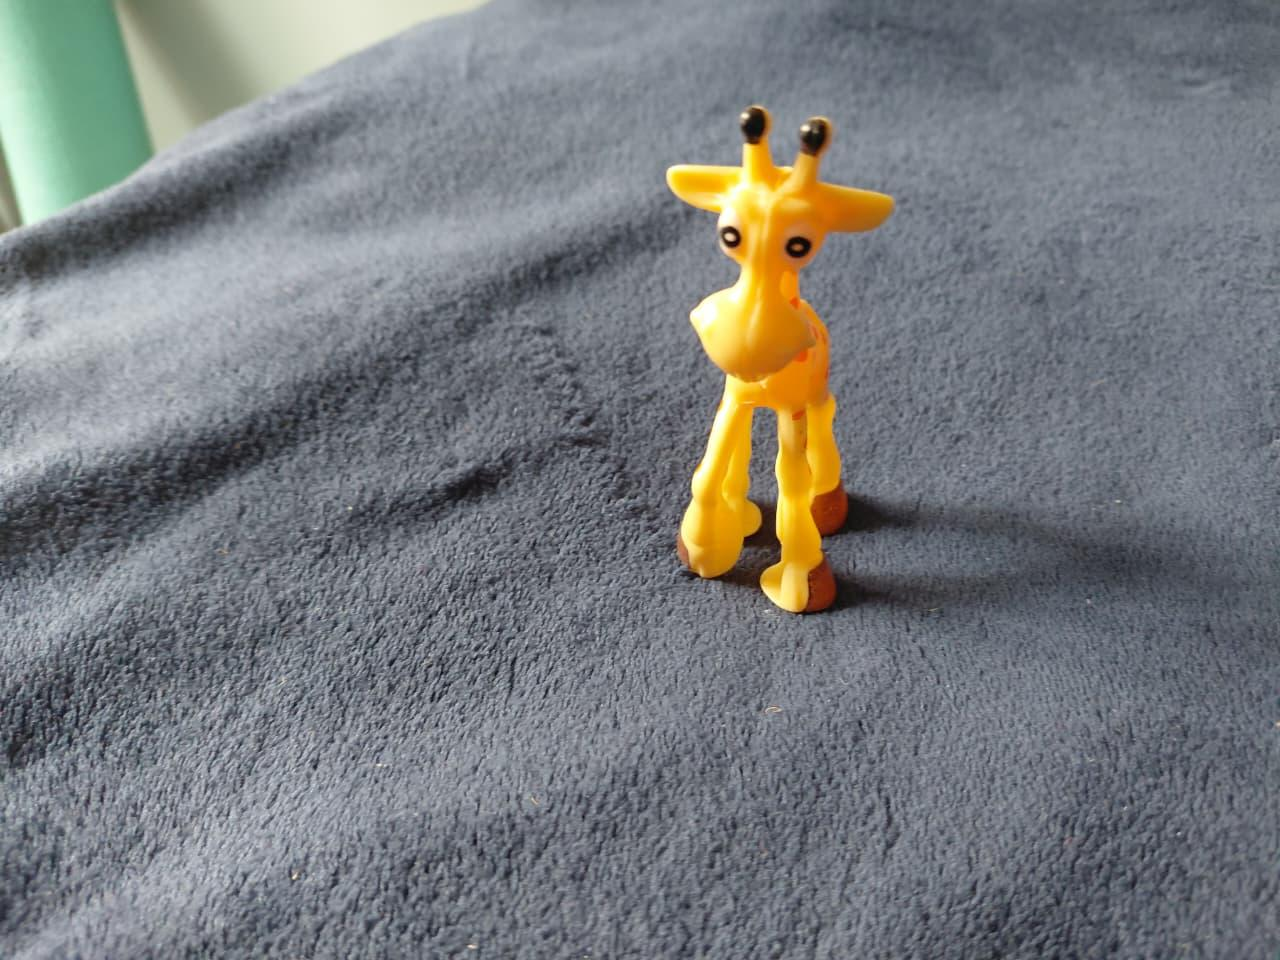giraffe: (658, 73, 899, 624)
